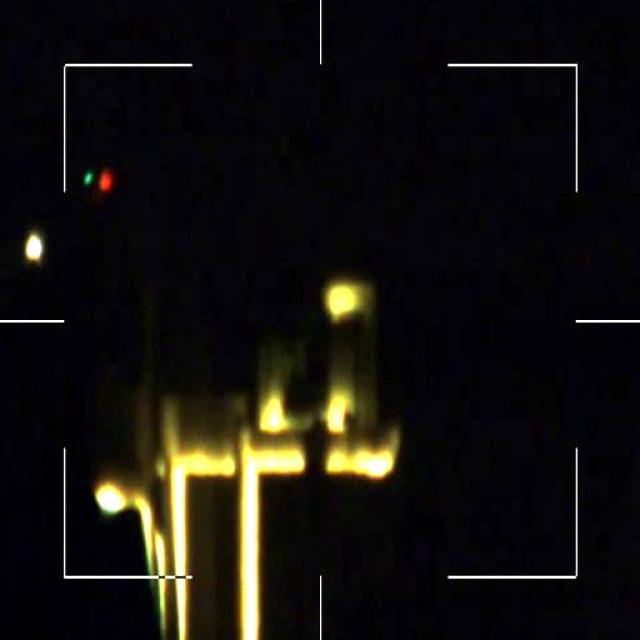bird: (81, 165, 112, 201)
